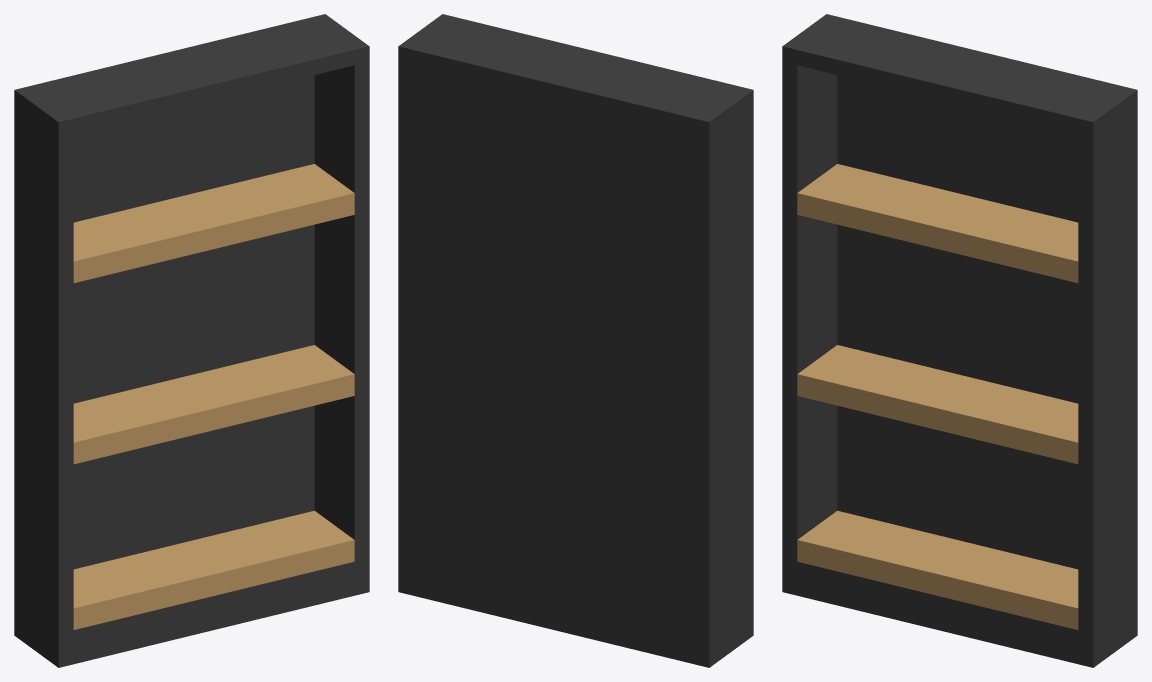
The model's file is Bookshelf.fbx.
The picture shows the model from 3 angles, left to right: view 1: azimuth 30°, elevation 25°; view 2: azimuth 150°, elevation 25°; view 3: azimuth 330°, elevation 25°; orthographic projection.
Visible parts, largest first — view 1: Bookshelf; view 2: Bookshelf; view 3: Bookshelf.
Boxes of the visible parts, x1,y1,x2,y2 form: Bookshelf: [14, 14, 369, 667]; Bookshelf: [398, 14, 753, 667]; Bookshelf: [782, 14, 1137, 667].
Size of the model in its own units: 116 by 194 by 28.47.
